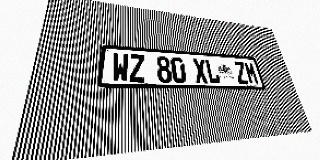0: (170, 57, 187, 83)
8: (156, 56, 172, 83)
L: (204, 59, 221, 84)
M: (243, 62, 260, 84)
W: (112, 53, 129, 82)
X: (192, 58, 209, 83)
Z: (129, 54, 146, 82), (233, 61, 249, 84)
